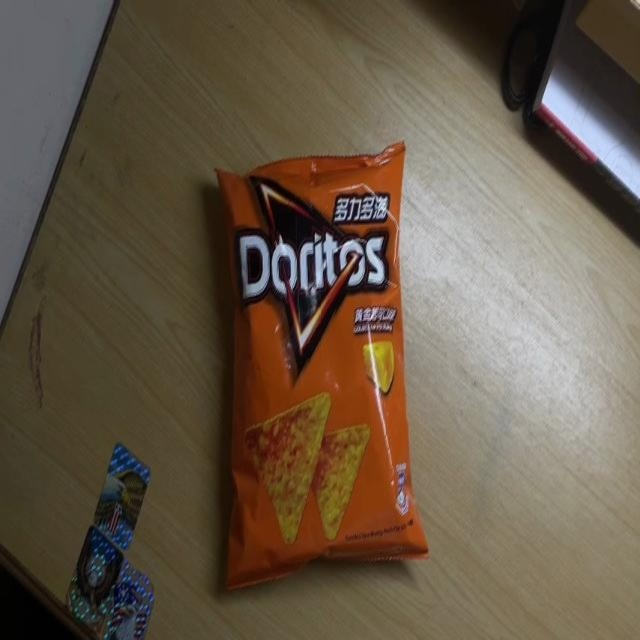Doritos: (212, 138, 432, 598)
